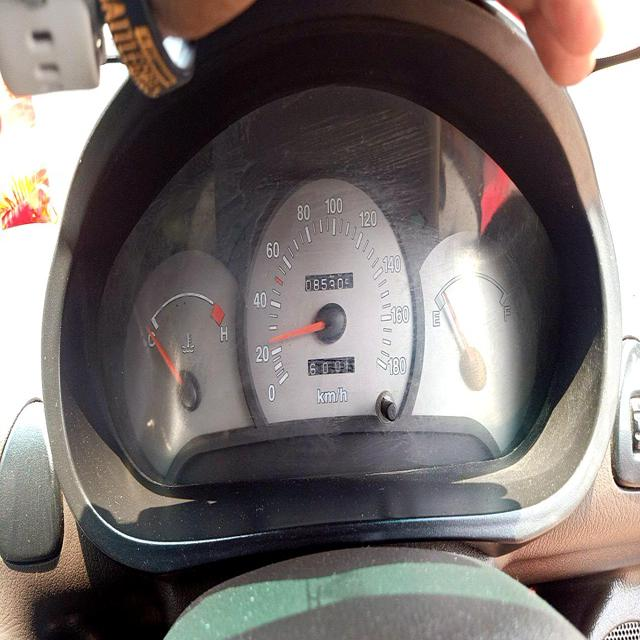odometer: (304, 272, 353, 292)
